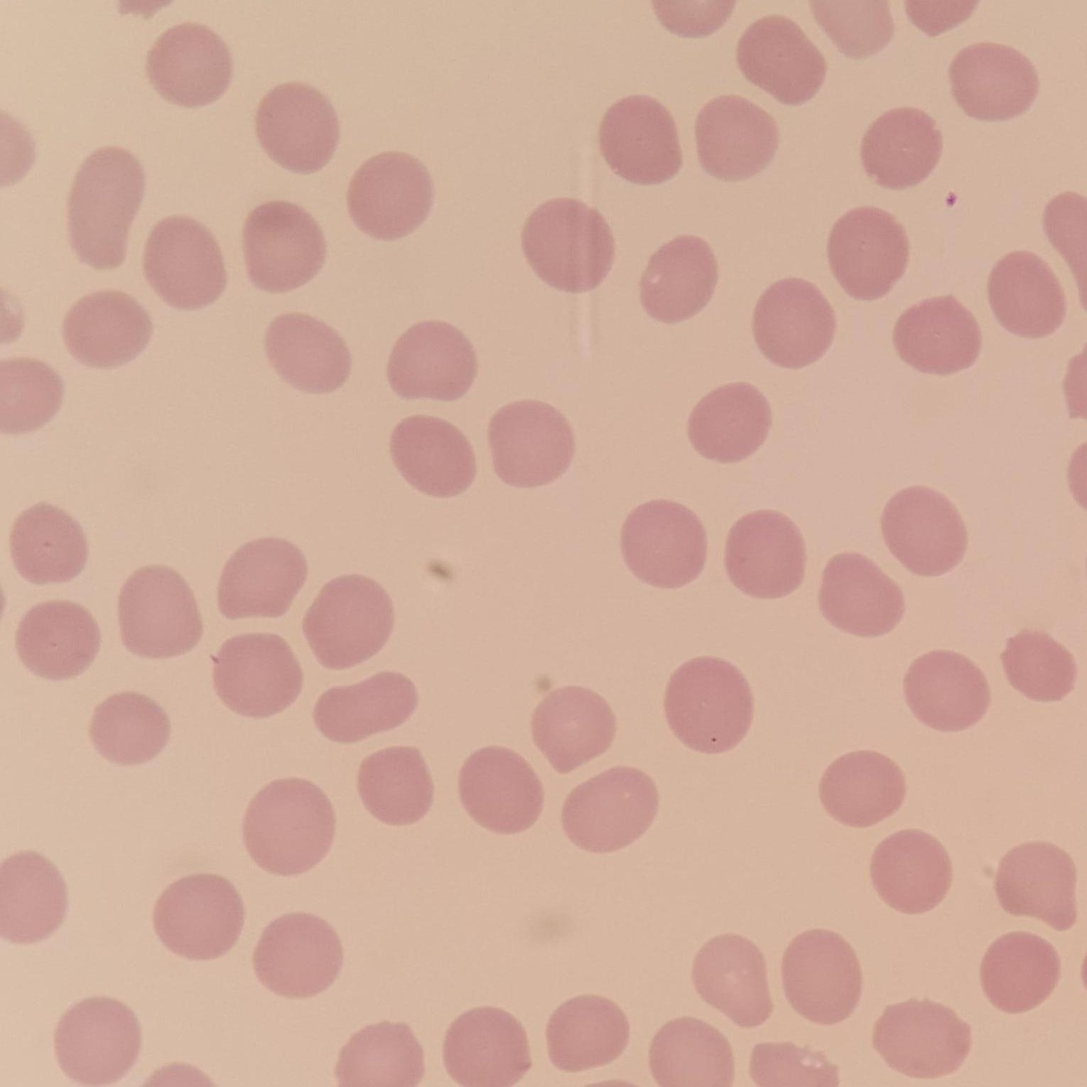Uninfected: (67, 145, 146, 267), (240, 778, 334, 875), (249, 81, 343, 175), (662, 656, 754, 752), (521, 197, 612, 291), (115, 564, 205, 659), (305, 575, 397, 666), (880, 484, 970, 576), (779, 927, 864, 1024), (490, 399, 579, 491), (561, 767, 656, 853), (151, 873, 243, 961), (735, 15, 826, 103), (251, 911, 342, 998), (620, 499, 708, 588), (315, 669, 418, 745), (211, 632, 302, 718), (217, 536, 310, 620), (597, 93, 683, 183), (750, 276, 835, 367), (143, 215, 228, 306), (992, 840, 1076, 932), (691, 935, 774, 1028), (347, 151, 436, 237), (530, 683, 616, 772), (146, 21, 234, 107), (457, 746, 543, 834), (826, 207, 909, 298), (686, 380, 773, 466), (53, 996, 139, 1083), (388, 413, 477, 497), (244, 200, 328, 288), (723, 509, 806, 598), (61, 288, 152, 369), (386, 320, 477, 401), (873, 999, 967, 1077), (816, 552, 902, 637), (892, 293, 981, 375), (15, 597, 101, 681), (902, 649, 989, 732), (948, 40, 1038, 120), (264, 312, 352, 393), (440, 1007, 530, 1086), (695, 94, 778, 179), (869, 828, 952, 912), (818, 747, 904, 828), (9, 501, 90, 586), (639, 236, 718, 322), (987, 249, 1064, 337), (860, 106, 942, 188), (355, 744, 437, 826), (983, 929, 1063, 1012), (545, 995, 629, 1073), (0, 850, 68, 941), (89, 691, 171, 766), (648, 1017, 732, 1087), (335, 1021, 423, 1087), (1000, 629, 1078, 703), (0, 358, 63, 433)
